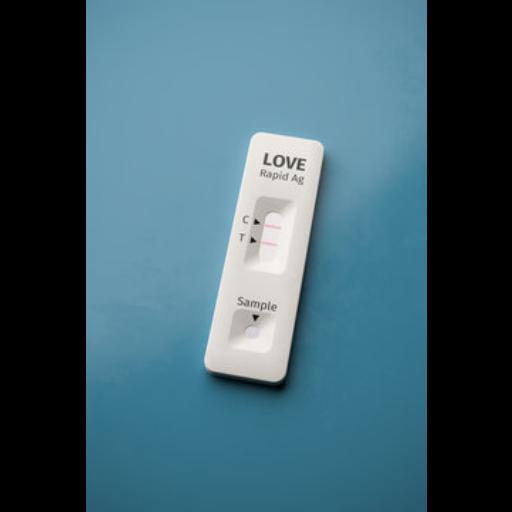Pos: (202, 132, 325, 383)
